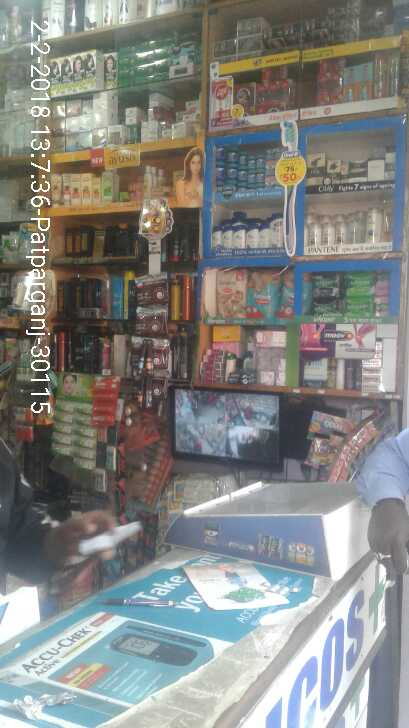beauty: (307, 152, 326, 184), (366, 207, 383, 240), (269, 215, 284, 252), (306, 223, 323, 251), (326, 157, 343, 183), (232, 223, 245, 249), (334, 221, 348, 245), (245, 226, 258, 250), (349, 219, 361, 243), (220, 226, 232, 248), (348, 161, 364, 177), (322, 225, 334, 246), (211, 222, 220, 249)
pharmacy: (246, 266, 279, 320), (215, 269, 246, 321), (344, 294, 374, 319), (345, 270, 376, 294), (311, 272, 339, 297), (310, 297, 338, 316), (224, 144, 238, 166), (215, 146, 225, 162), (211, 164, 223, 177), (255, 150, 264, 167), (255, 169, 265, 184), (237, 150, 245, 168), (246, 156, 255, 170), (246, 169, 254, 183), (227, 166, 234, 179), (238, 167, 244, 181)
